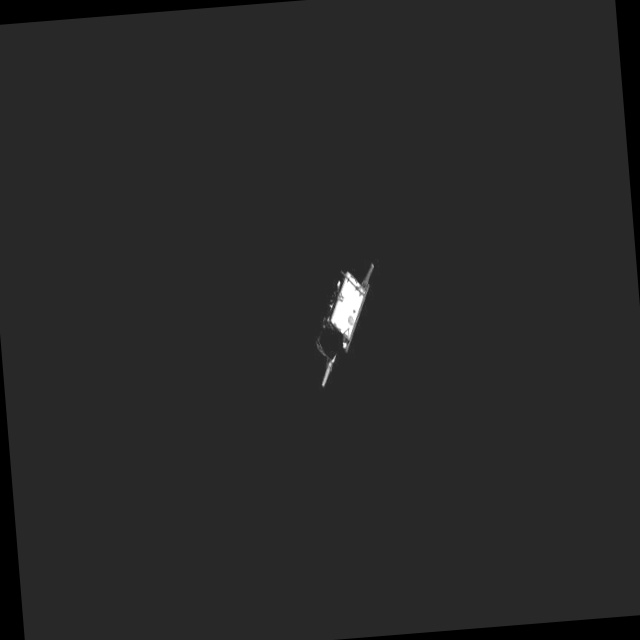satellite: (305, 254, 384, 399)
